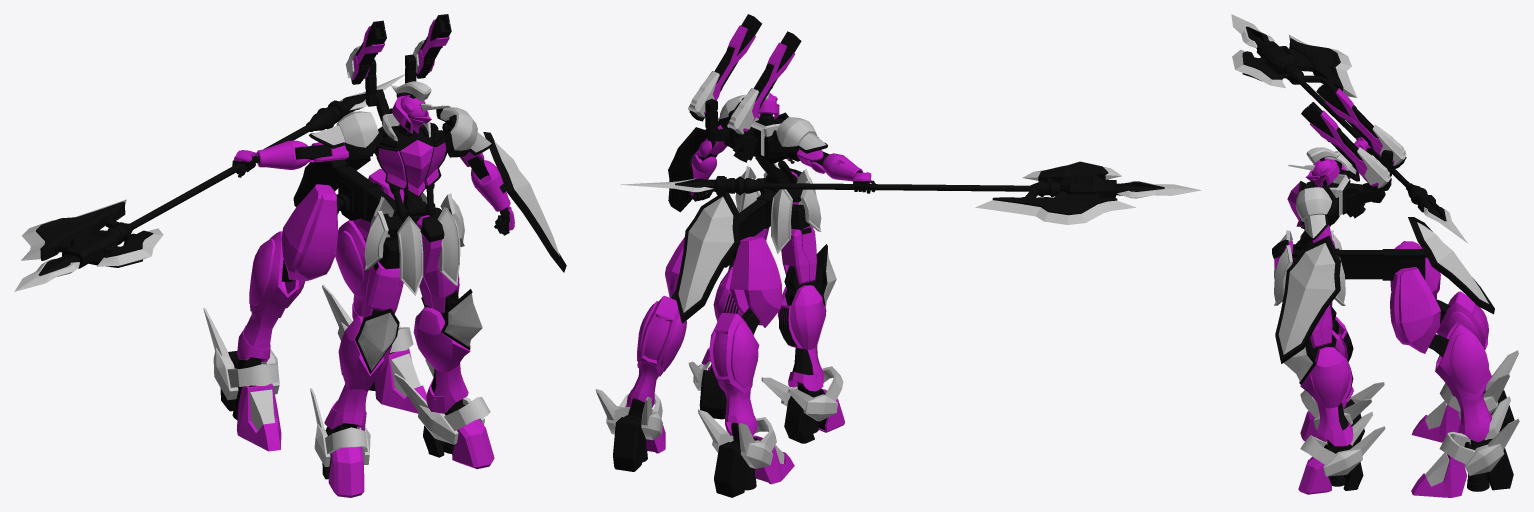
Rendered from knight posado.fbx.
3 views of the same model, side by side, from view 1: azimuth 30°, elevation 25°; view 2: azimuth 150°, elevation 25°; view 3: azimuth 270°, elevation 25° (orthographic). The views are drawn at different scales.
Visible parts, largest first — view 1: MangoHacha, Knight_Leg_Back_Muslo_Der, Knight_Leg_Back_Tibia_Der, Knight_Leg_Front_Tibia_IZQ, Knight_Leg_Front_Tibia_DER, Knight_Waist_Main, Knight_Shield_Exterior (×2), Knight_Leg_Back_Tobillo_Armor_Der, Knight_Leg_Front_Tobillo_Armor_IZQ, Knight_Leg_Back_Tibia_Izq, Knight_Leg_Back_Pie_Armor_Front_Ext_Der, Knight_Leg_Front_Muslo_Main_DER (+26 smaller); view 2: MangoHacha, Knight_Leg_Back_Tibia_Der, Knight_Shield_Inner, Knight_Leg_Front_Tibia_DER, Knight_Leg_Back_Tibia_Izq, Knight_Leg_Back_Muslo_Der, Knight_Shield_Exterior (×2), Knight_Leg_Back_Tobillo_Armor_Der, Knight_Leg_Front_Tobillo_Armor_DER, Knight_BackPack_Weapon_Piece_inner (×2), Hacha-Laser_der, Knight_Leg_Back_Pie_Armor_Back_Der (+12 smaller); view 3: Knight_Shield_Inner (×2), MangoHacha, Knight_Leg_Back_Tibia_Izq, Knight_Leg_Front_Tibia_IZQ, Knight_Leg_Back_Muslo_Izq, Knight_Shield_Exterior (×2), Knight_Leg_Back_Tobillo_Armor_Izq, Knight_Waist_Main, Knight_Leg_Front_Tobillo_Armor_IZQ, Knight_BackPack_Weapon_Piece_inner (×2), Knight_Leg_Back_Tibia_Der, Knight_BackPack_Weapon_Piece_Mid (×2) (+26 smaller).
Boxes of the visible parts, x1=… form: MangoHacha: x1=36, y1=93, x2=365, y2=275; Knight_Leg_Back_Muslo_Der: x1=281, y1=184, x2=337, y2=280; Knight_Leg_Back_Tibia_Der: x1=237, y1=231, x2=305, y2=361; Knight_Leg_Front_Tibia_IZQ: x1=413, y1=307, x2=470, y2=413; Knight_Leg_Front_Tibia_DER: x1=324, y1=316, x2=392, y2=430; Knight_Waist_Main: x1=329, y1=159, x2=452, y2=237; Knight_Shield_Exterior (×2): x1=293, y1=132, x2=566, y2=272; Knight_Leg_Back_Tobillo_Armor_Der: x1=203, y1=308, x2=279, y2=400; Knight_Leg_Front_Tobillo_Armor_IZQ: x1=394, y1=359, x2=490, y2=444; Knight_Leg_Back_Tibia_Izq: x1=335, y1=219, x2=368, y2=319; Knight_Leg_Back_Pie_Armor_Front_Ext_Der: x1=236, y1=383, x2=281, y2=451; Knight_Leg_Front_Muslo_Main_DER: x1=361, y1=261, x2=403, y2=318; MangoHacha: x1=675, y1=161, x2=1164, y2=215; Knight_Leg_Back_Tibia_Der: x1=709, y1=313, x2=759, y2=436; Knight_Shield_Inner: x1=678, y1=196, x2=734, y2=312; Knight_Leg_Front_Tibia_DER: x1=777, y1=285, x2=825, y2=391; Knight_Leg_Back_Tibia_Izq: x1=626, y1=295, x2=686, y2=407; Knight_Leg_Back_Muslo_Der: x1=729, y1=236, x2=781, y2=327; Knight_Shield_Exterior (×2): x1=668, y1=127, x2=740, y2=323; Knight_Leg_Back_Tobillo_Armor_Der: x1=698, y1=409, x2=776, y2=468; Knight_Leg_Front_Tobillo_Armor_DER: x1=761, y1=366, x2=843, y2=421; Knight_BackPack_Weapon_Piece_inner (×2): x1=689, y1=14, x2=801, y2=138; Hacha-Laser_der: x1=975, y1=200, x2=1136, y2=224; Knight_Leg_Back_Pie_Armor_Back_Der: x1=714, y1=442, x2=747, y2=497; Knight_Shield_Inner (×2): x1=1278, y1=222, x2=1488, y2=354; MangoHacha: x1=1242, y1=26, x2=1446, y2=221; Knight_Leg_Back_Tibia_Izq: x1=1435, y1=321, x2=1492, y2=442; Knight_Leg_Front_Tibia_IZQ: x1=1300, y1=347, x2=1353, y2=446; Knight_Leg_Back_Muslo_Izq: x1=1390, y1=267, x2=1440, y2=353; Knight_Shield_Exterior (×2): x1=1275, y1=217, x2=1494, y2=363; Knight_Leg_Back_Tobillo_Armor_Izq: x1=1439, y1=396, x2=1519, y2=475; Knight_Waist_Main: x1=1292, y1=241, x2=1427, y2=280; Knight_Leg_Front_Tobillo_Armor_IZQ: x1=1300, y1=412, x2=1385, y2=476; Knight_BackPack_Weapon_Piece_inner (×2): x1=1301, y1=79, x2=1406, y2=192; Knight_Leg_Back_Tibia_Der: x1=1436, y1=291, x2=1491, y2=392; Knight_BackPack_Weapon_Piece_Mid (×2): x1=1309, y1=88, x2=1394, y2=186.
Size of the model in its own units: 2523 by 1899 by 1321.
